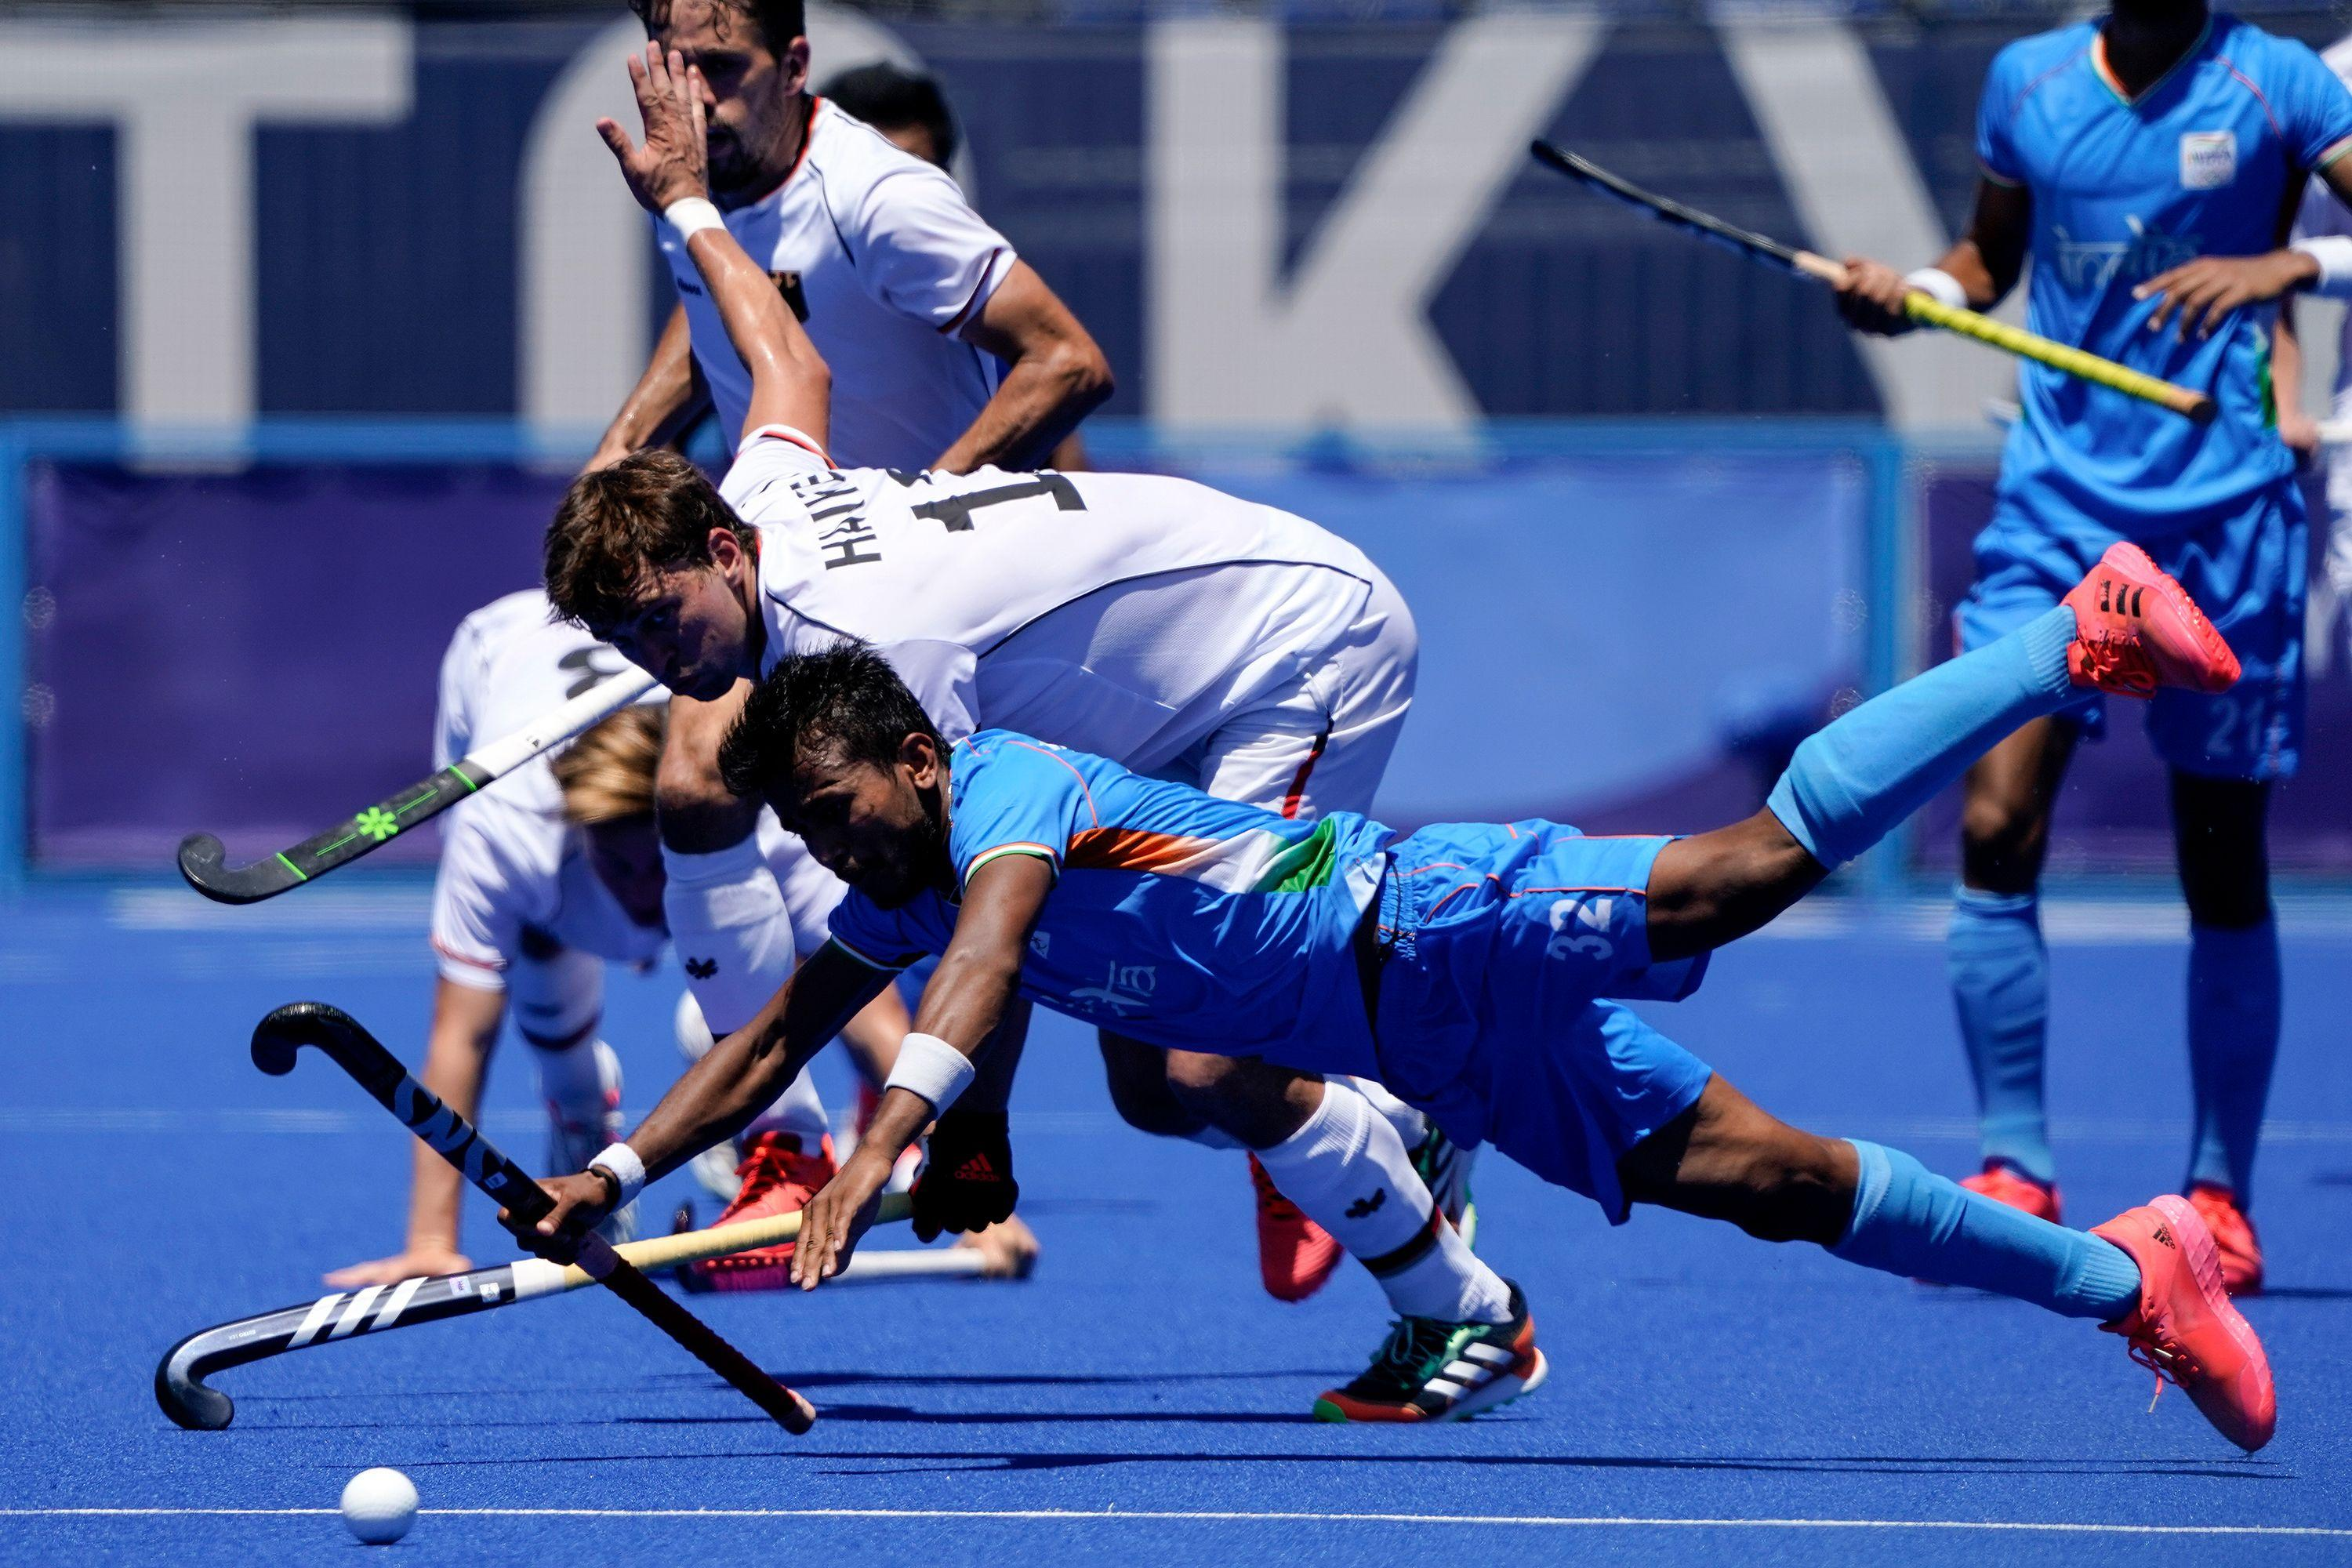ball: (333, 1435, 480, 1561)
